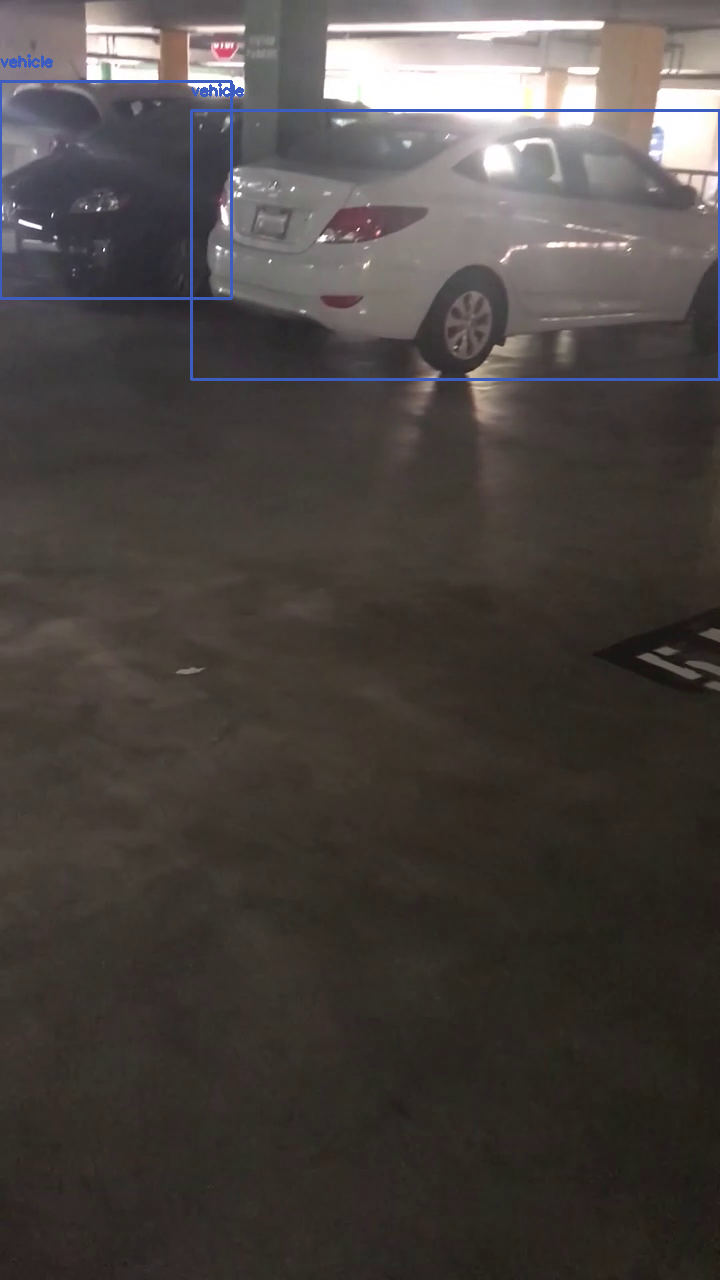vehicle: (191, 110, 719, 379), (0, 81, 231, 298)
